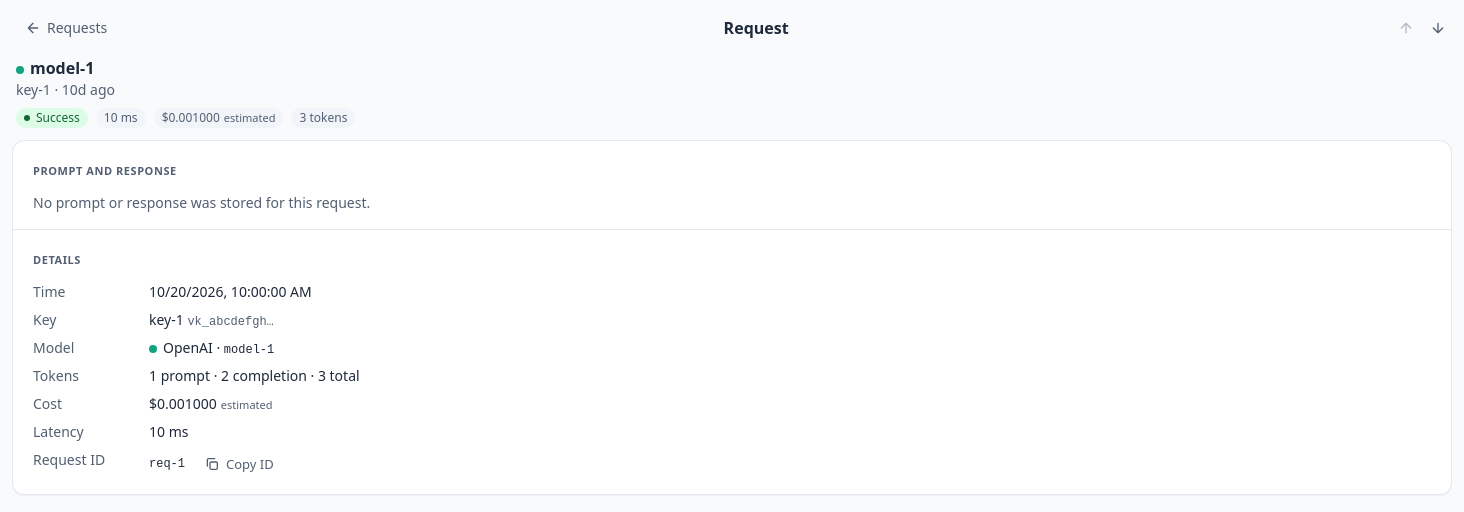
Test: Requests: full-screen detail on a narrower screen › steps to the next request from the detail
Check: the heading "Request" is shown, box 724,16 -> 789,40
Click the button named "Next request": point(1438, 28) 1424,14 -> 1452,42
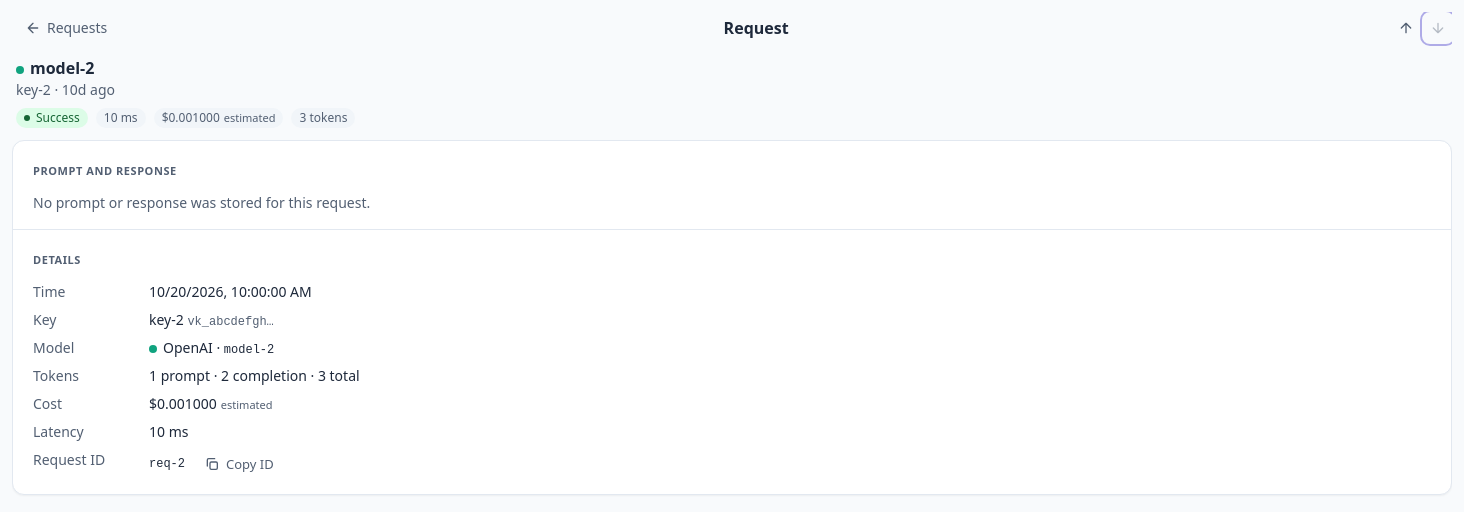
Check: the text "key-2 vk_abcdefgh…" is shown, box 149,310 -> 274,329
